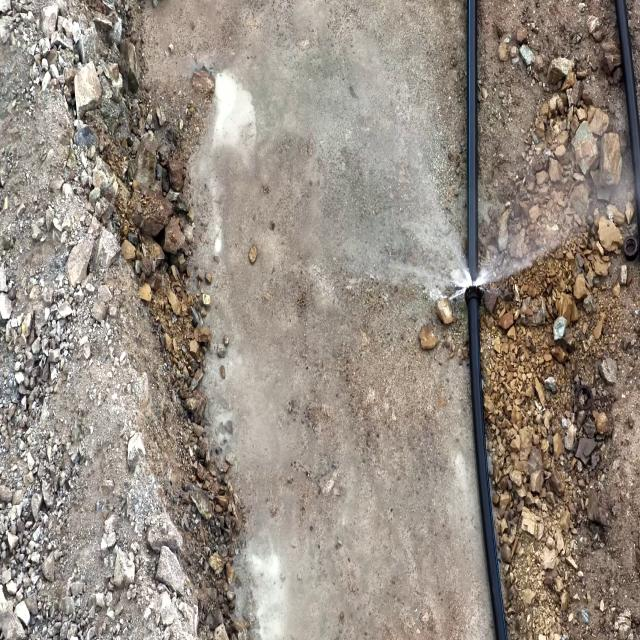leak: (354, 186, 587, 302)
